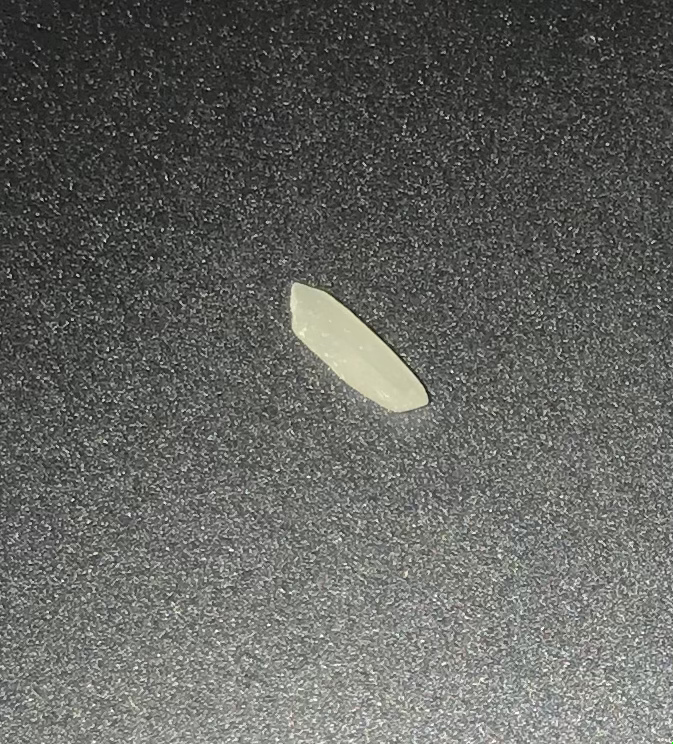Gao Tam Thom: (271, 261, 444, 434)
